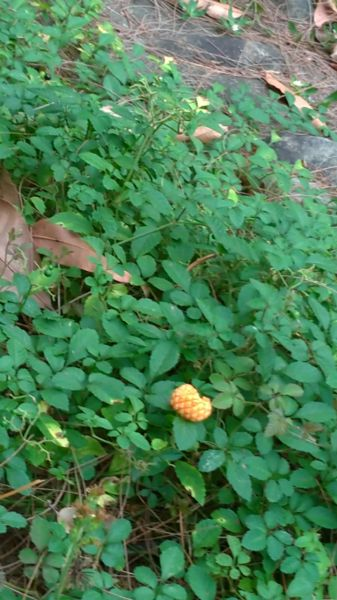eggs: (165, 380, 220, 424)
